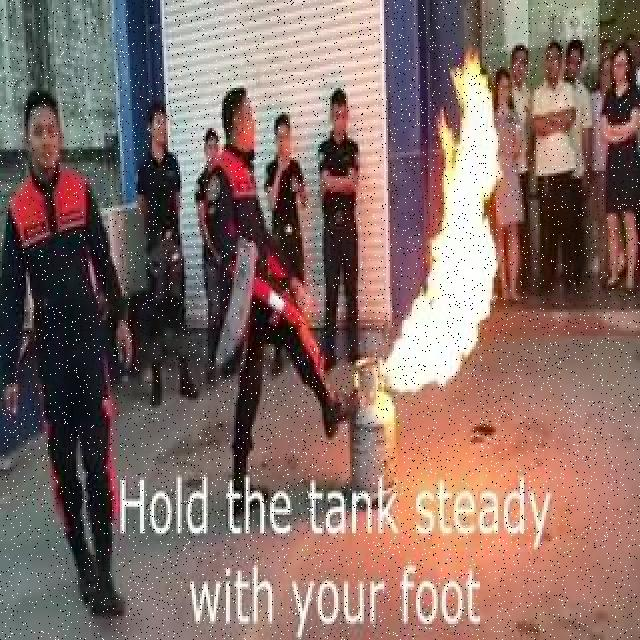fire: (385, 66, 517, 397)
